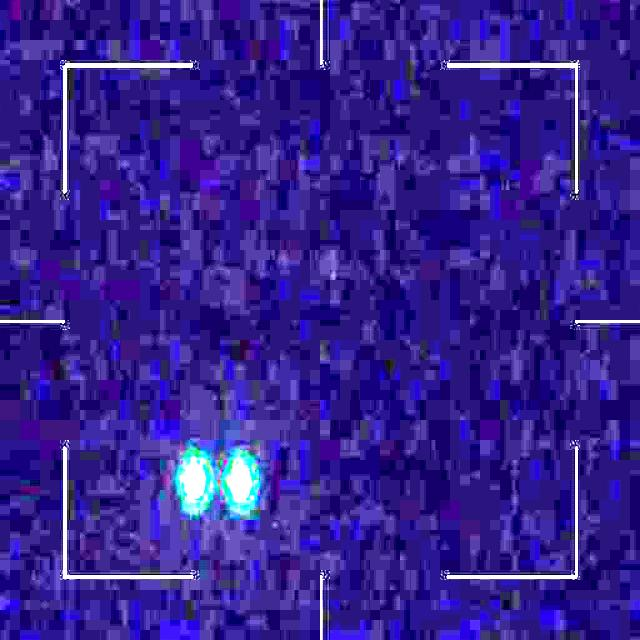bird: (182, 459, 256, 508)
